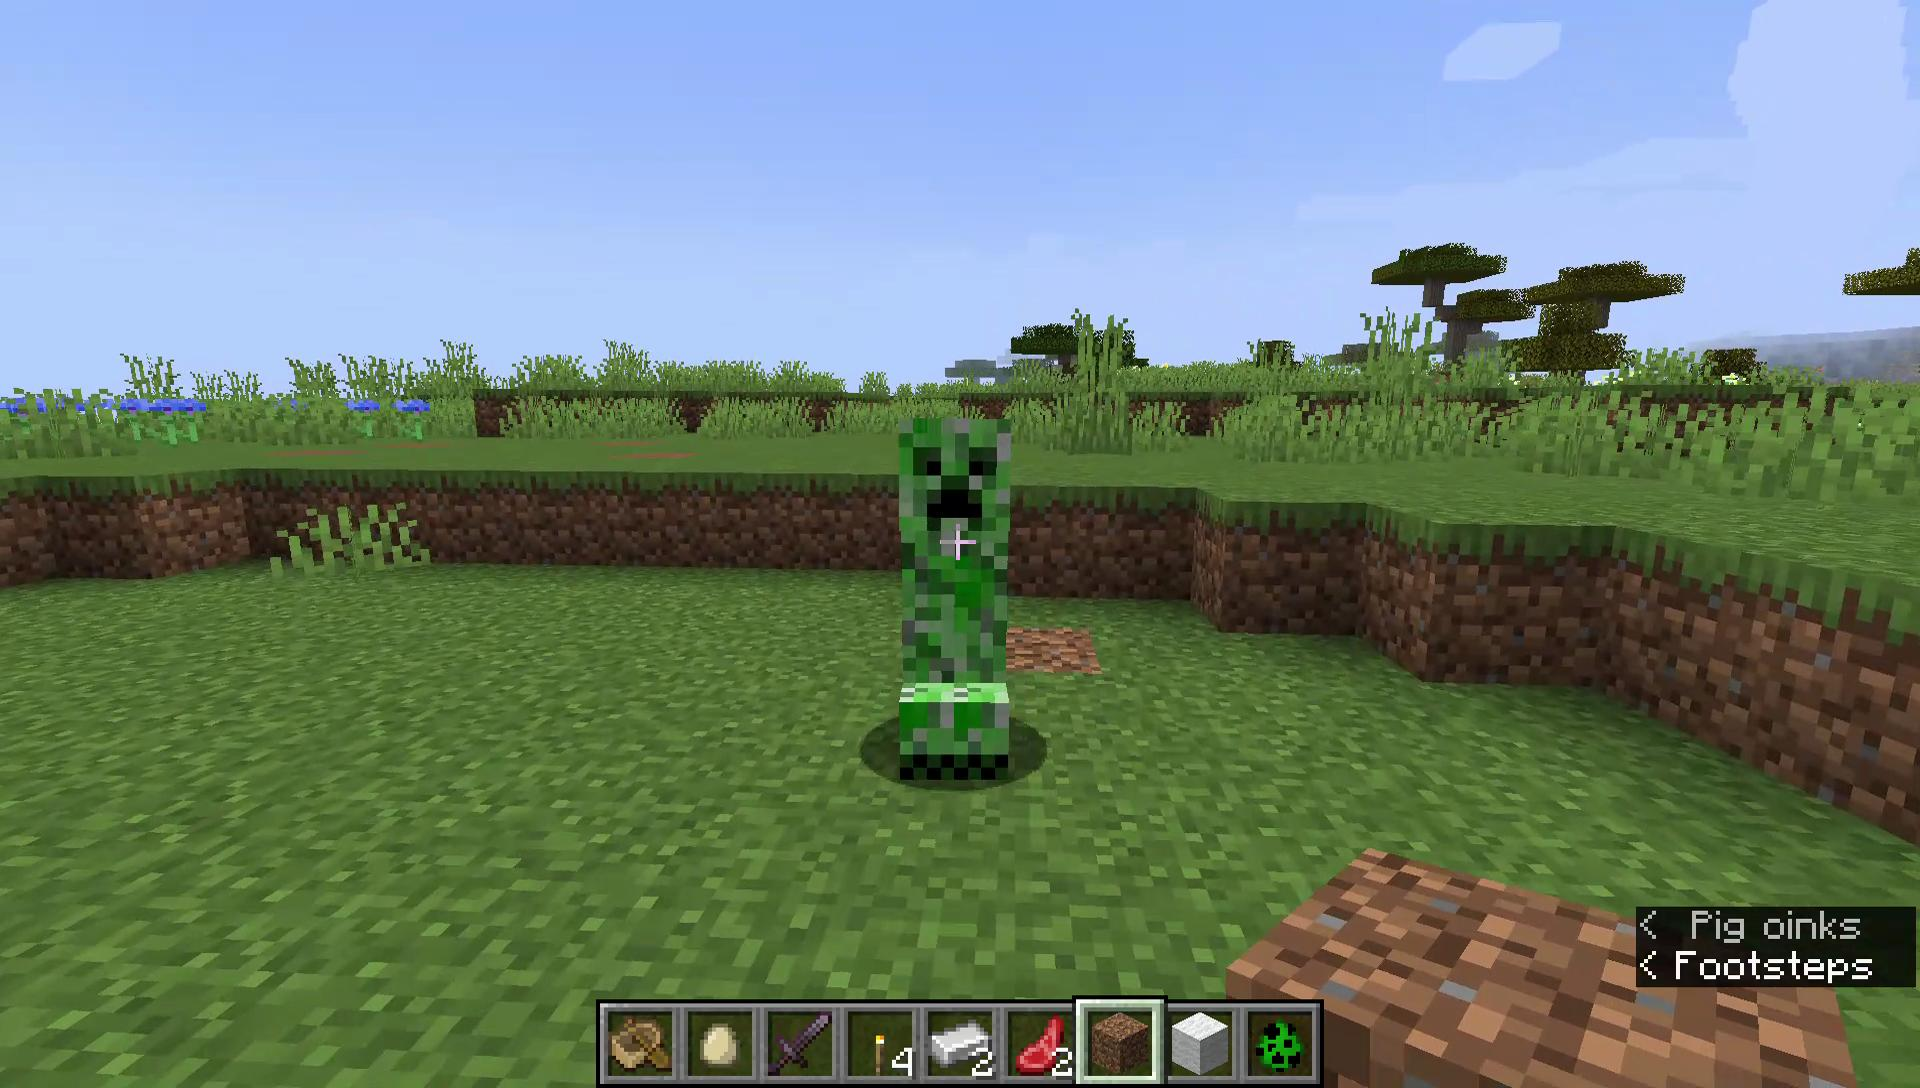creeper: (887, 408, 1021, 789)
